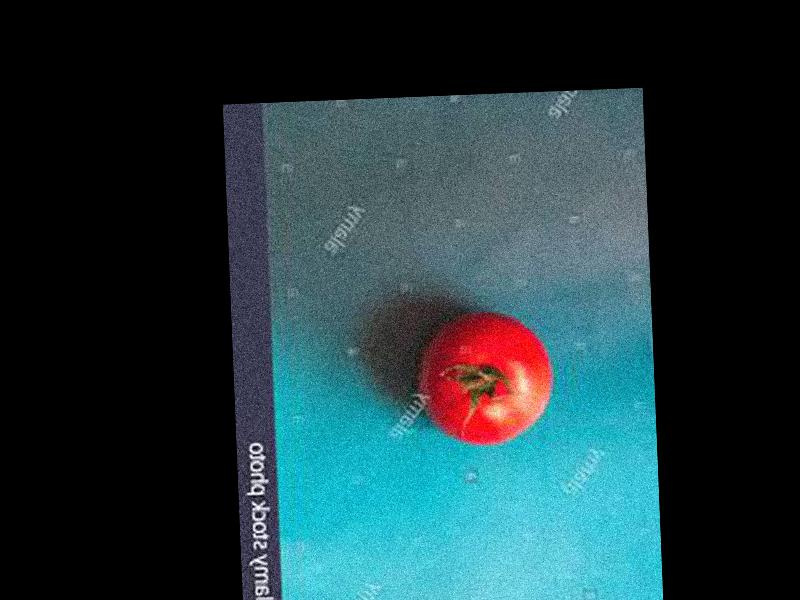Tomato: (414, 311, 555, 447)
